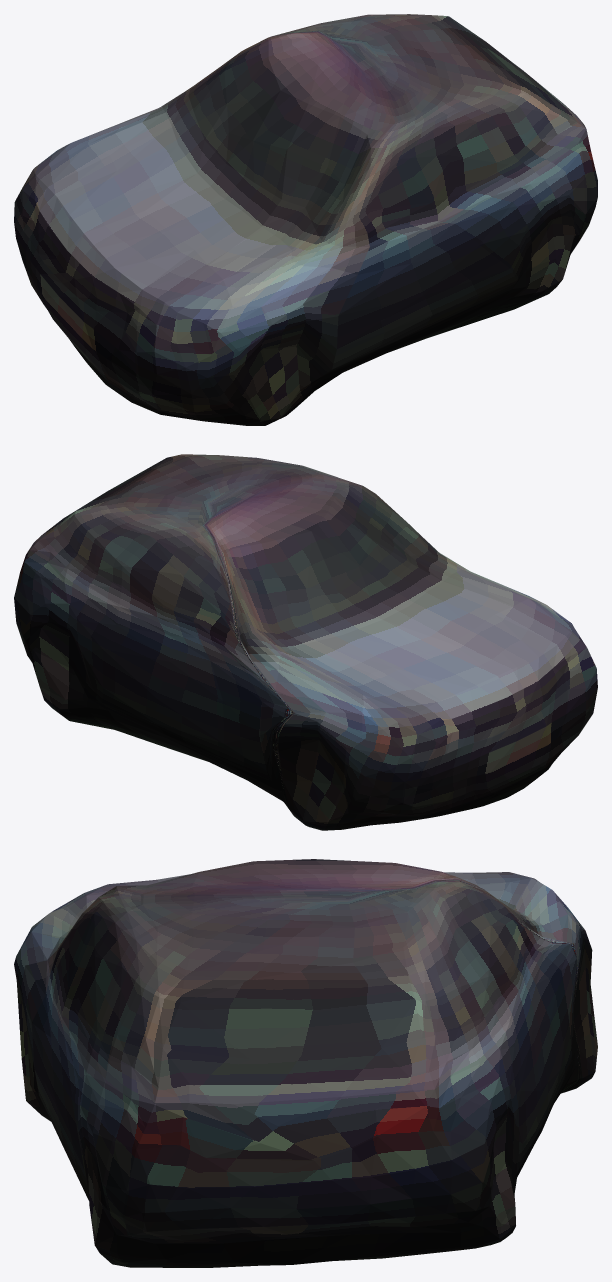
The model's file is video3_391.obj.
3 renders of one model, top to bottom at view 1: azimuth 30°, elevation 25°; view 2: azimuth 150°, elevation 25°; view 3: azimuth 270°, elevation 25°, orthographic. The views are drawn at different scales.
Bounding box in the file's own units: 1 × 0.5022 × 0.754.
Materials: 1 (1 with a texture image).
